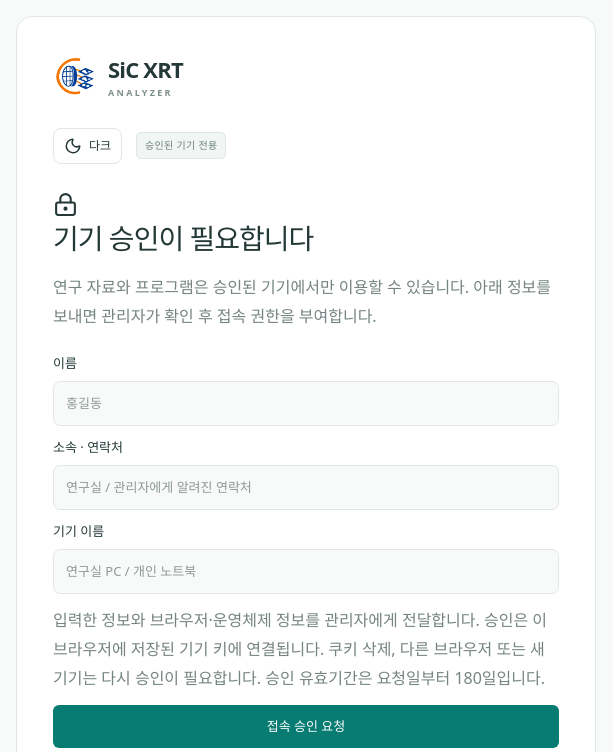
Test case: submits browser information once and retains a pending request
Type "QA" into the field labelled "이름" at (306, 404), box [53, 381, 559, 426]
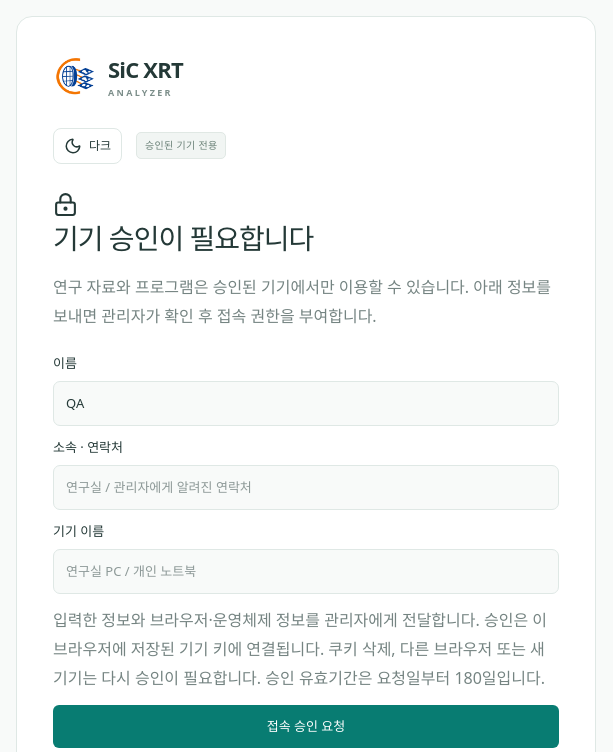
Type "Synthetic lab" into the field labelled "소속 · 연락처" at (306, 488), box [53, 465, 559, 510]
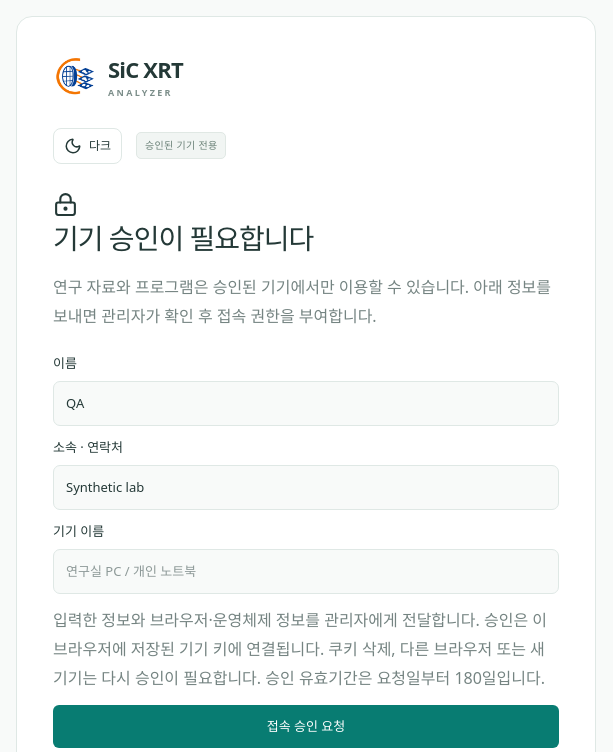
Type "QA PC" into the field labelled "기기 이름" at (306, 572), box [53, 549, 559, 594]
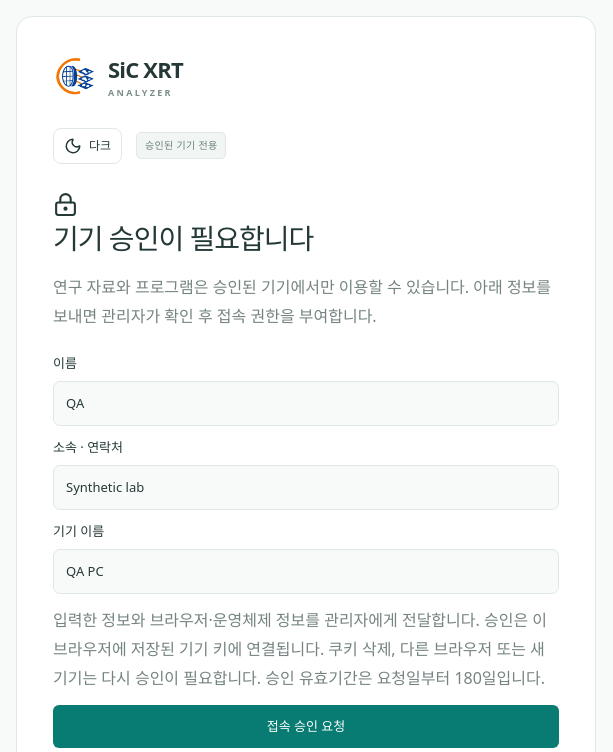
Click the button "접속 승인 요청" at (306, 727), box [53, 705, 559, 748]
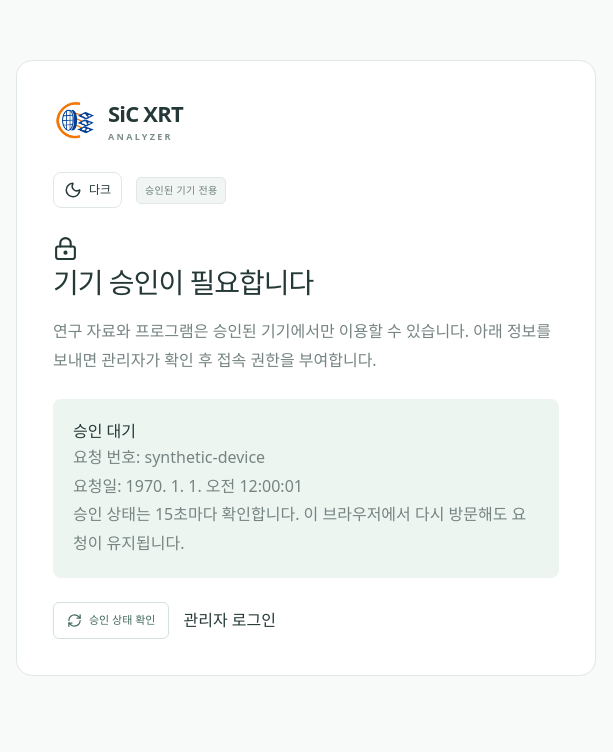
Expected: the text "승인 대기" is shown, [73, 420, 136, 442]
Expected: the button "접속 승인 요청" is gone
